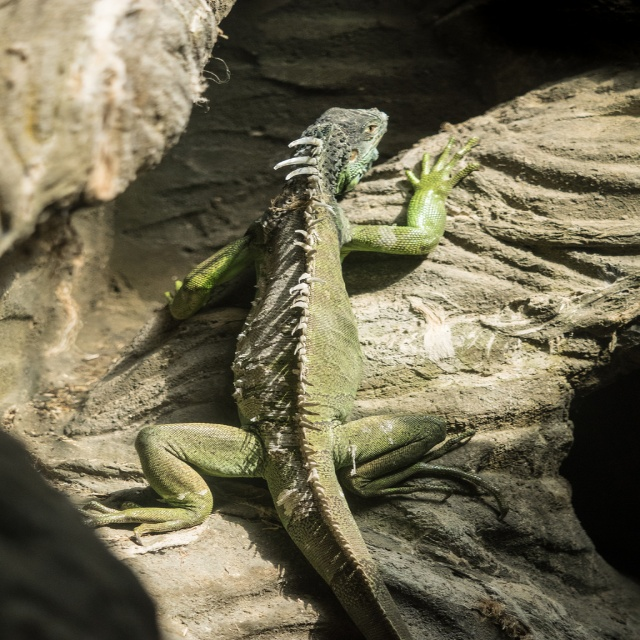Lizard: (83, 111, 508, 636)
